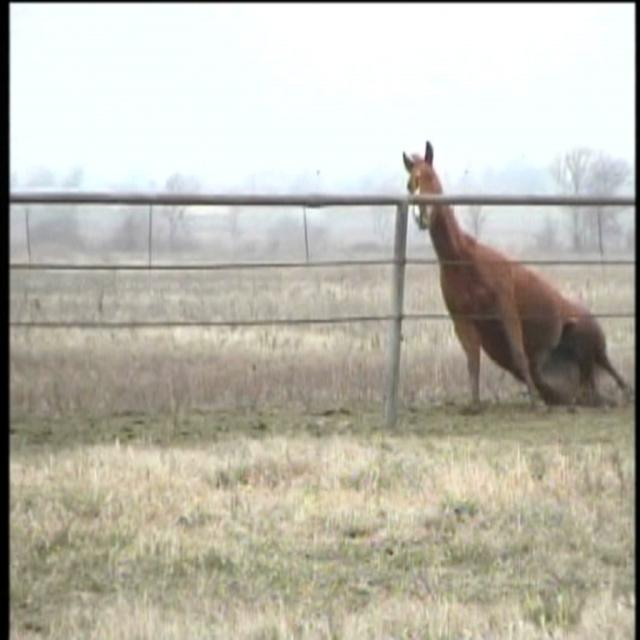Horse: (404, 142, 638, 418)
